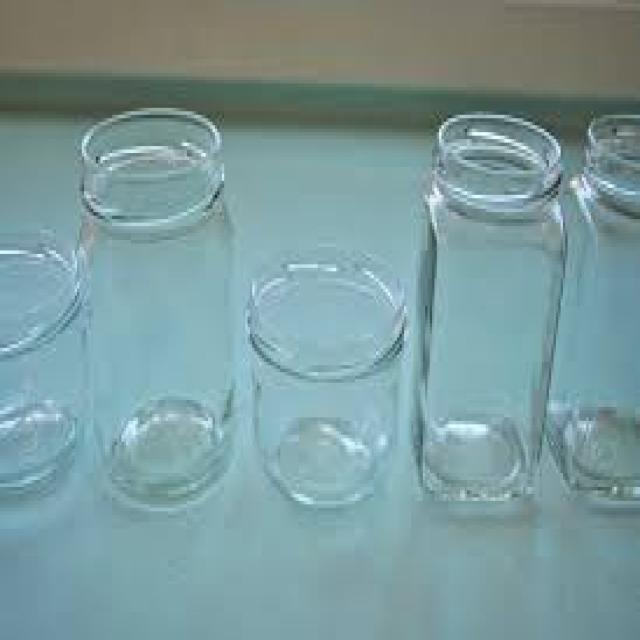glass: (73, 105, 232, 512), (411, 108, 565, 501), (245, 240, 402, 504), (542, 108, 638, 497), (0, 223, 82, 498)
